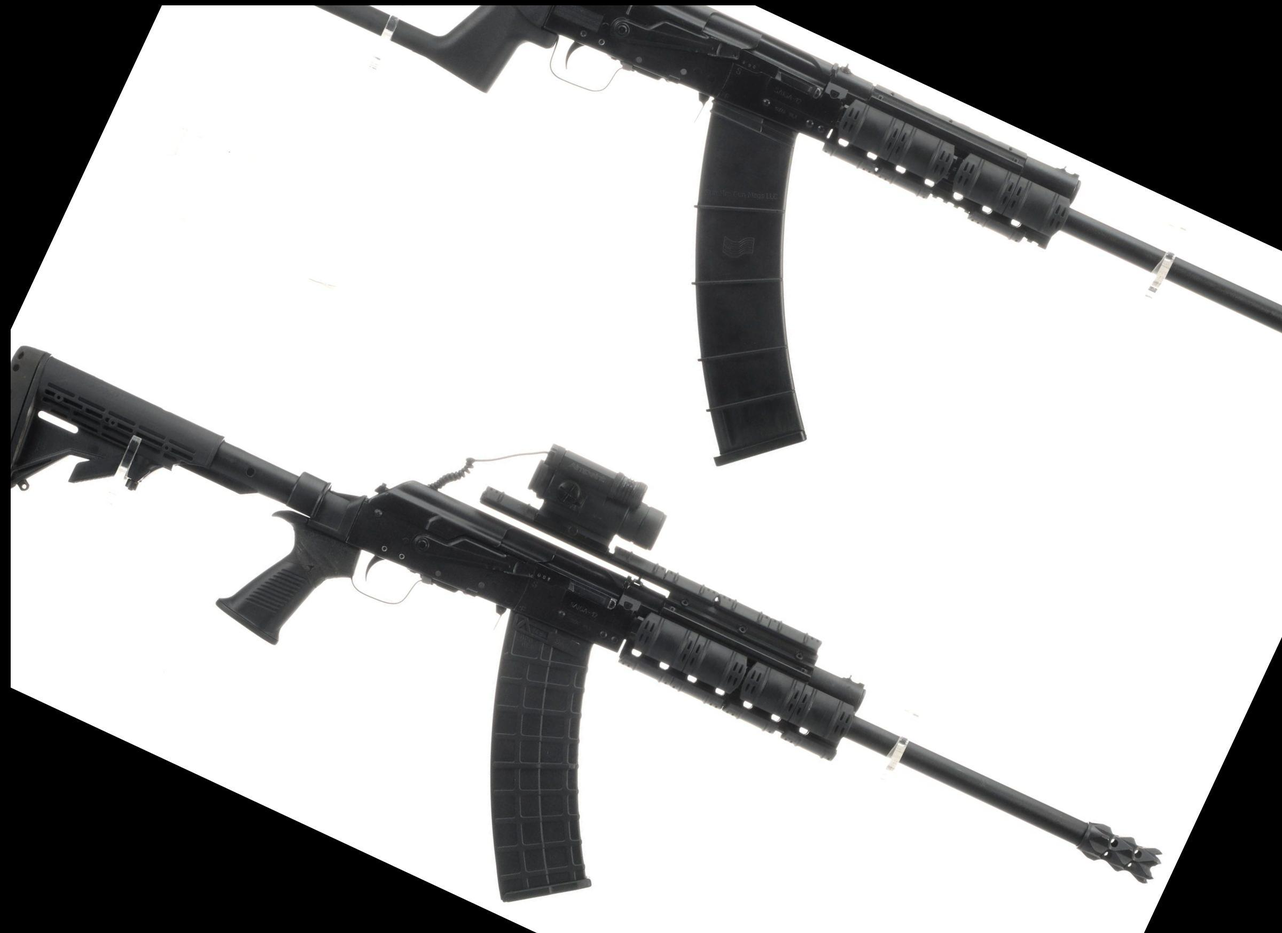larga: (10, 344, 1164, 906), (312, 2, 1282, 470)
